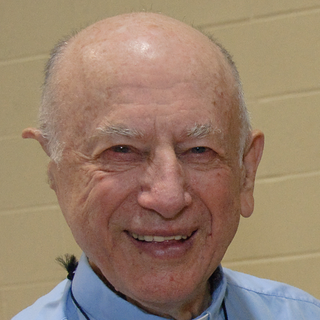eye: (98, 140, 144, 163), (178, 140, 222, 164)
